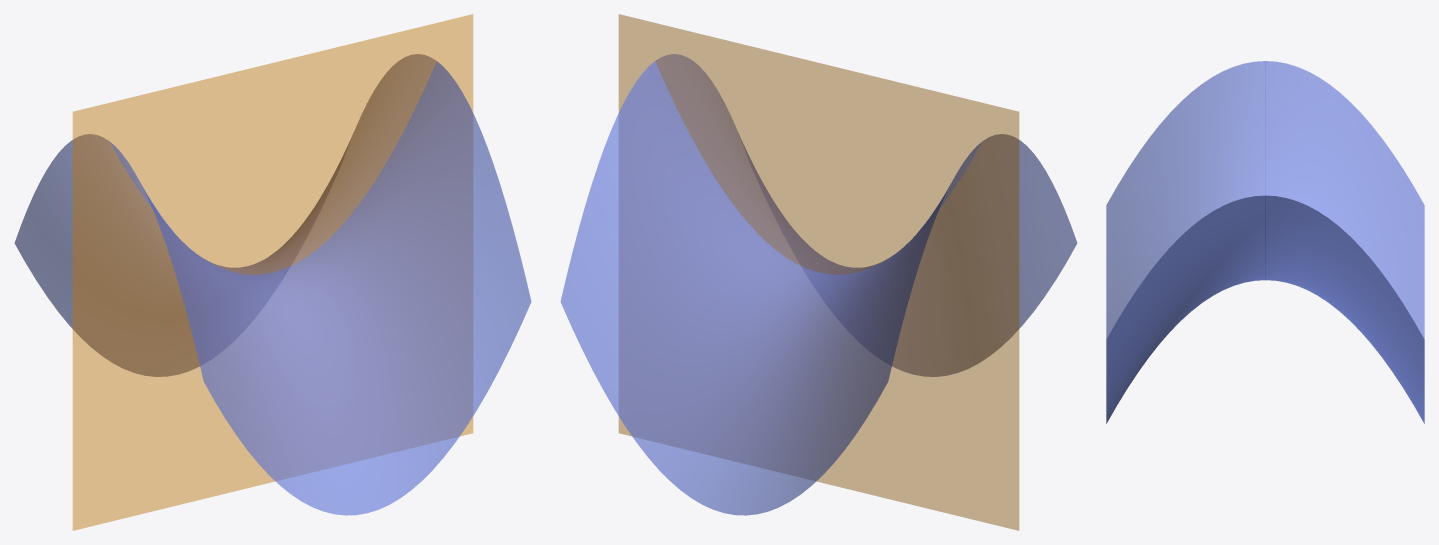
The model's file is tangent-plane-saddle.glb.
3 renders of one model, left to right at view 1: azimuth 30°, elevation 25°; view 2: azimuth 150°, elevation 25°; view 3: azimuth 270°, elevation 25°, orthographic. The views are drawn at different scales.
Size of the model in its own units: 2.2 by 2.2 by 1.8.
